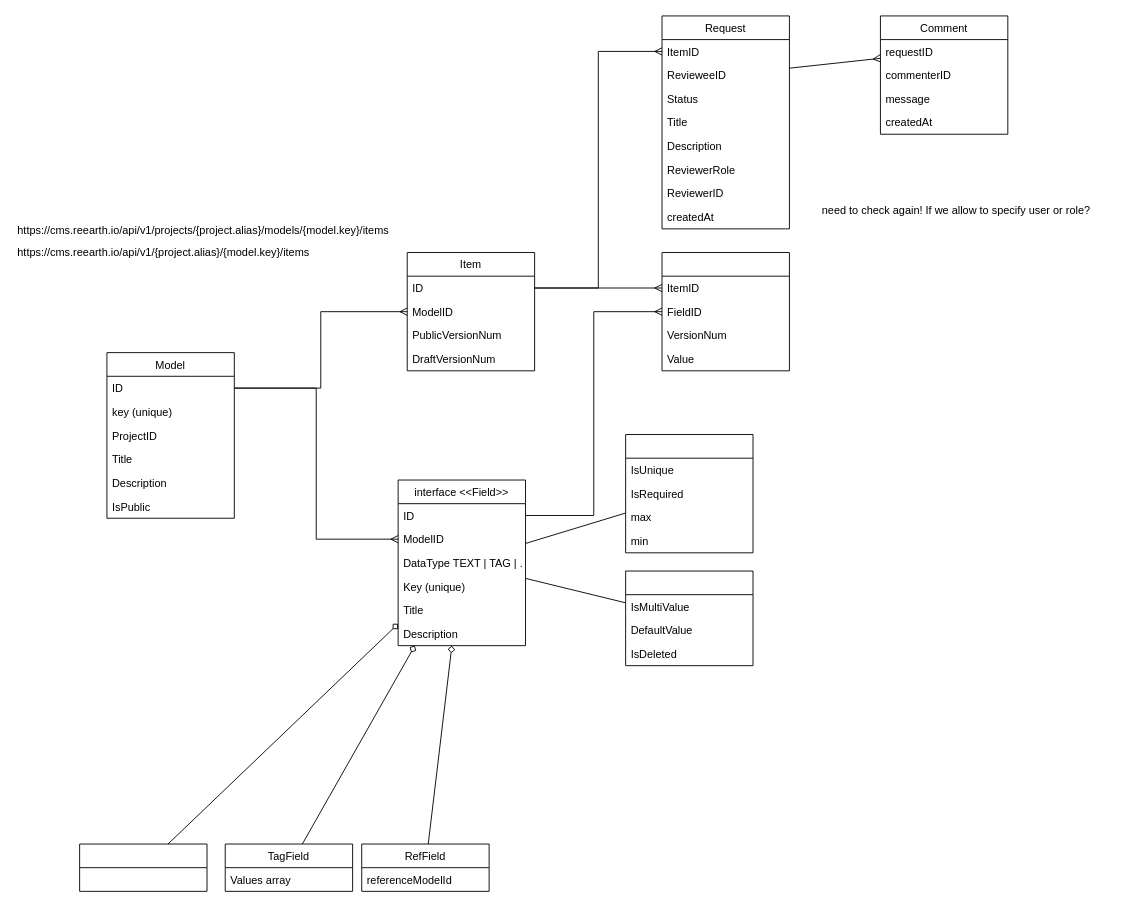
This 1123x910 diagram has some shape labels left out. The shapes that lost their labels are listed below. From the top down, each one's box as (x1, y1, x2, y2) in pixels, then its label:
(661, 252, 789, 371): Item Value
(625, 434, 753, 553): constraint
(625, 570, 753, 666): Settings
(79, 843, 207, 891): TextField
